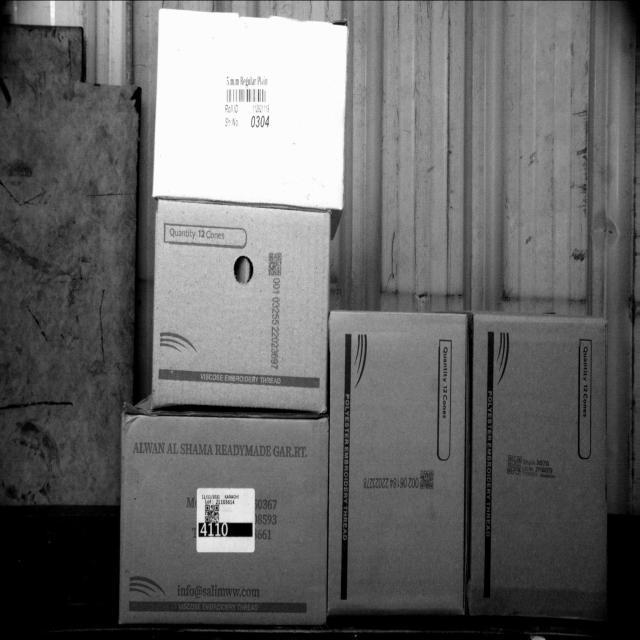box: (468, 309, 608, 626), (119, 417, 328, 626), (334, 309, 464, 618), (150, 14, 354, 204), (154, 208, 322, 414)
